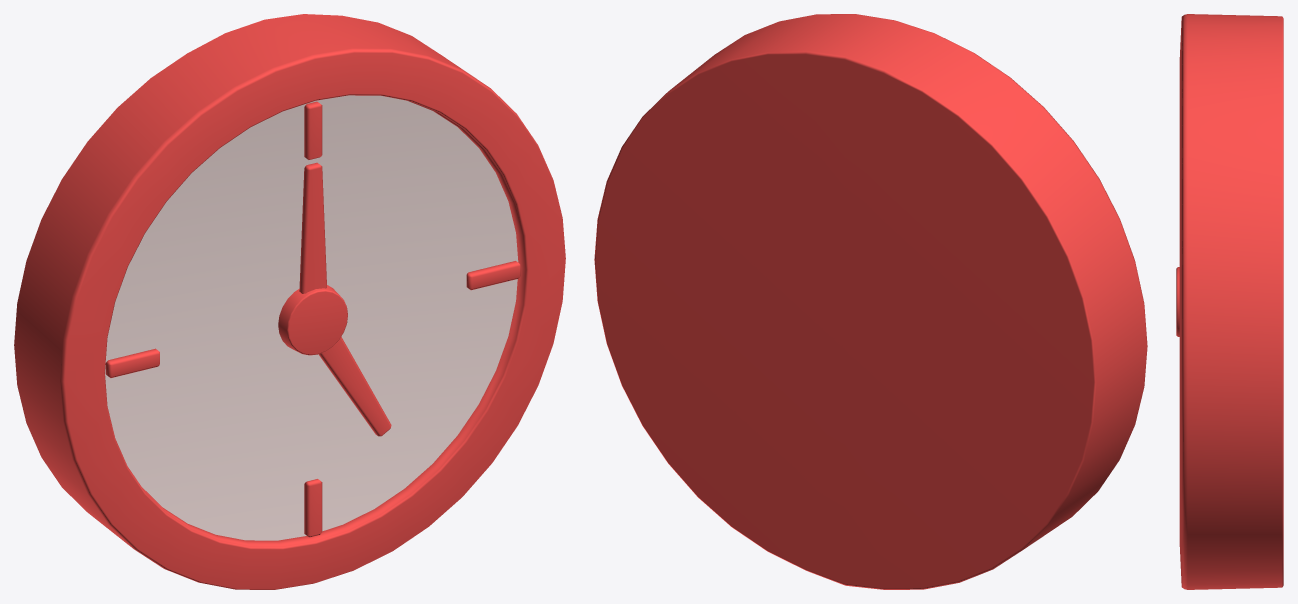
File: Public_8_Clock_1.glb
3 views of the same model, side by side, from view 1: azimuth 30°, elevation 25°; view 2: azimuth 150°, elevation 25°; view 3: azimuth 270°, elevation 25° (orthographic).
Parts seen in each view (by area): view 1: Public_8_Clock_1; view 2: Public_8_Clock_1; view 3: Public_8_Clock_1.
Boxes of the visible parts, <box> form: Public_8_Clock_1: <box>14,14,565,589</box>; Public_8_Clock_1: <box>594,14,1147,589</box>; Public_8_Clock_1: <box>1176,14,1283,589</box>.
Bounding box in the file's own units: 2.2 × 2.2 × 0.411.
1 material, 1 textured.
